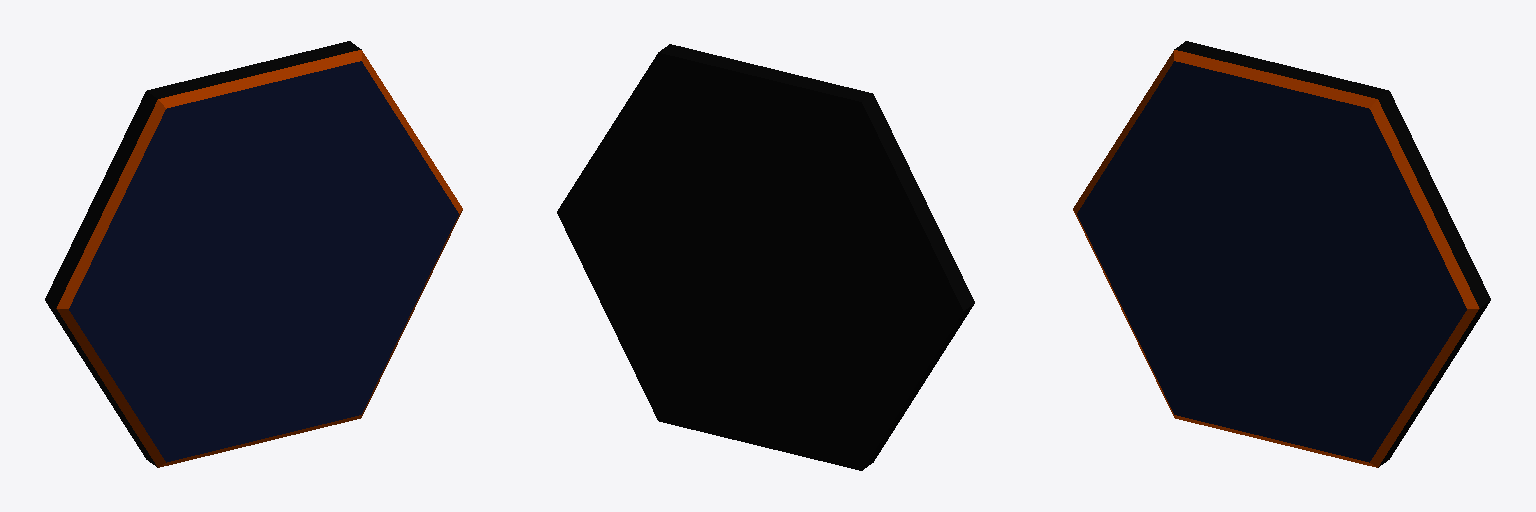
The model's file is hex-tile.obj.
The picture shows the model from 3 angles: view 1: azimuth 30°, elevation 25°; view 2: azimuth 150°, elevation 25°; view 3: azimuth 330°, elevation 25°; orthographic projection.
Parts seen in each view (by area): view 1: Cylinder_Cylinder.001; view 2: Cylinder_Cylinder.001; view 3: Cylinder_Cylinder.001.
Part boxes in pixels (x1,y1,x2,y2): Cylinder_Cylinder.001: (45,41,462,467); Cylinder_Cylinder.001: (557,44,974,470); Cylinder_Cylinder.001: (1073,41,1490,467).
Size of the model in its own units: 1.14 by 0.9889 by 0.0771.